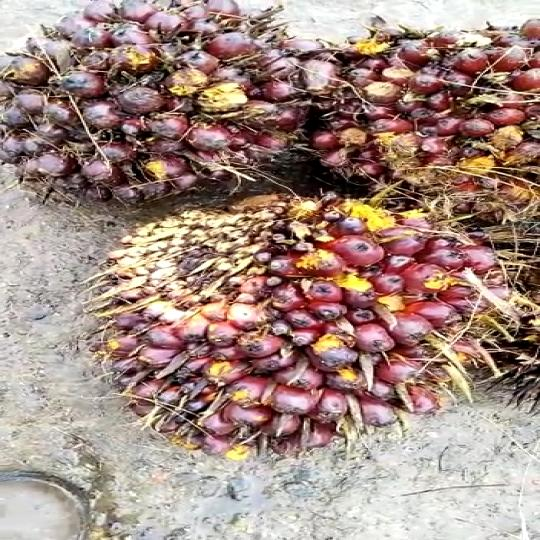masak: (84, 185, 515, 466), (0, 0, 308, 207)
